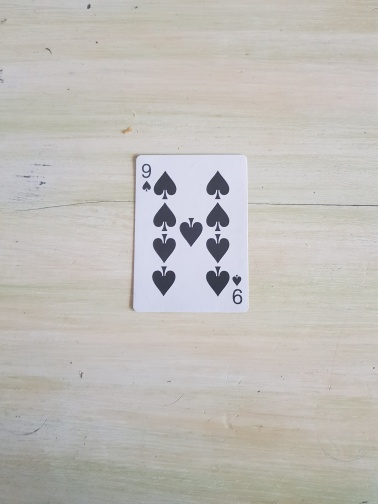nine: (129, 153, 251, 315)
